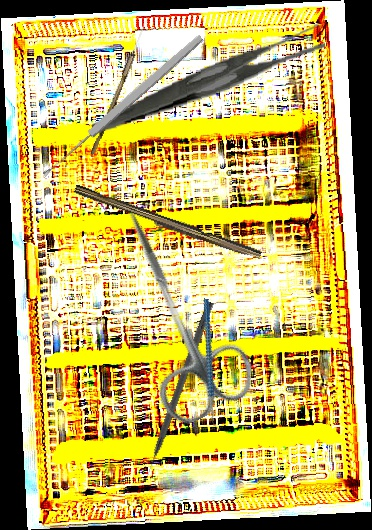Chopper: (170, 298, 255, 431)
Dressing Forceps: (85, 22, 331, 136)
Hook Surgical: (140, 300, 215, 484)
Iris Scissors: (82, 192, 265, 431)
Scalpel Handle: (71, 184, 264, 263)
Surgical Spoon: (39, 32, 206, 180), (90, 16, 150, 157)
